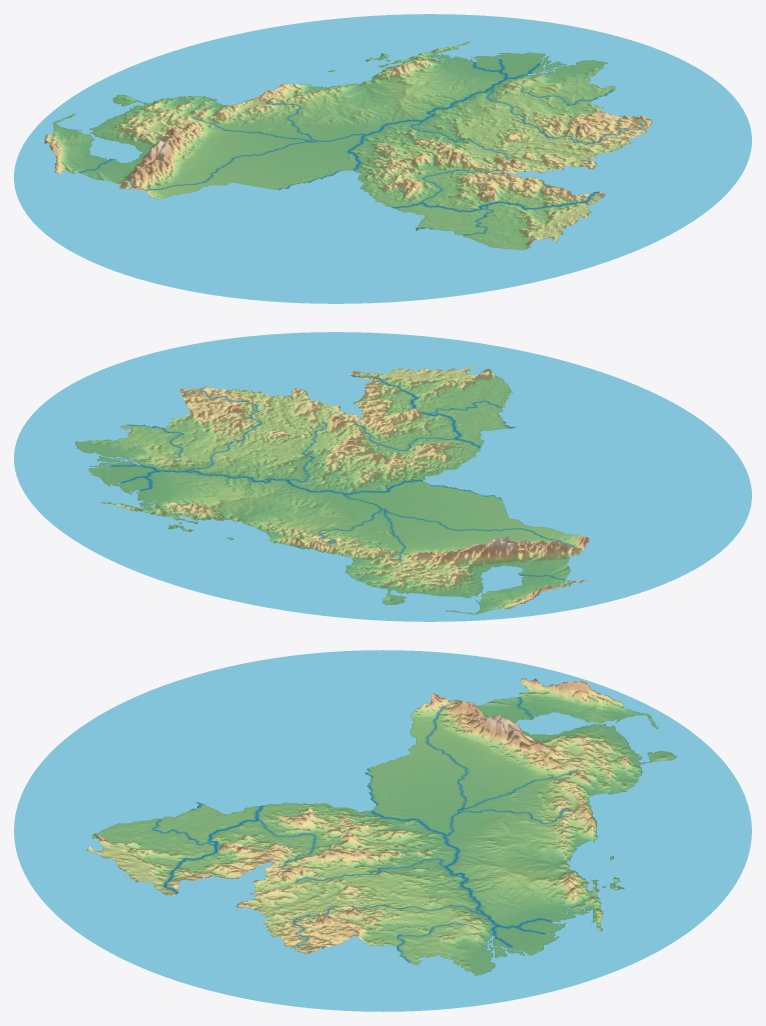
Rendered from VEN-terrain.glb.
3 renders of one model, top to bottom at view 1: azimuth 30°, elevation 25°; view 2: azimuth 150°, elevation 25°; view 3: azimuth 270°, elevation 25°, orthographic. The views are drawn at different scales.
Visible parts, largest first — view 1: Relevo com hidrografia; view 2: Relevo com hidrografia; view 3: Relevo com hidrografia.
Boxes of the visible parts, <box> form: Relevo com hidrografia: <box>14,14,751,303</box>; Relevo com hidrografia: <box>14,332,751,621</box>; Relevo com hidrografia: <box>14,650,751,1011</box>.
Bounding box in the file's own units: 2 × 0.0528 × 1.72.
Materials: 2 (1 with a texture image).
